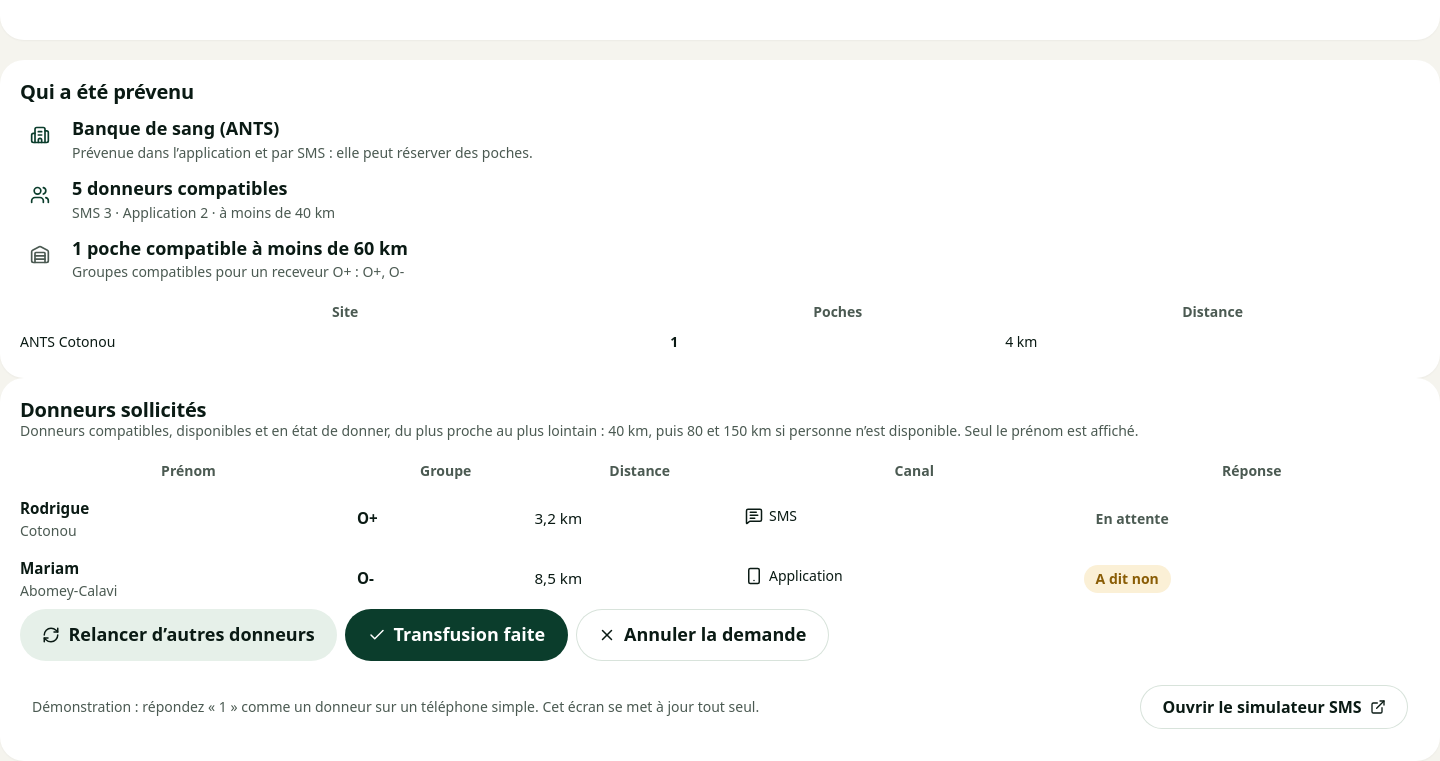
Test: annulation › demande confirmation, prévient l’API, puis affiche la demande clôturée
(page scrolled)
Click the button "Annuler la demande" at x=702, y=634, box [576,608,829,660]
(page scrolled)
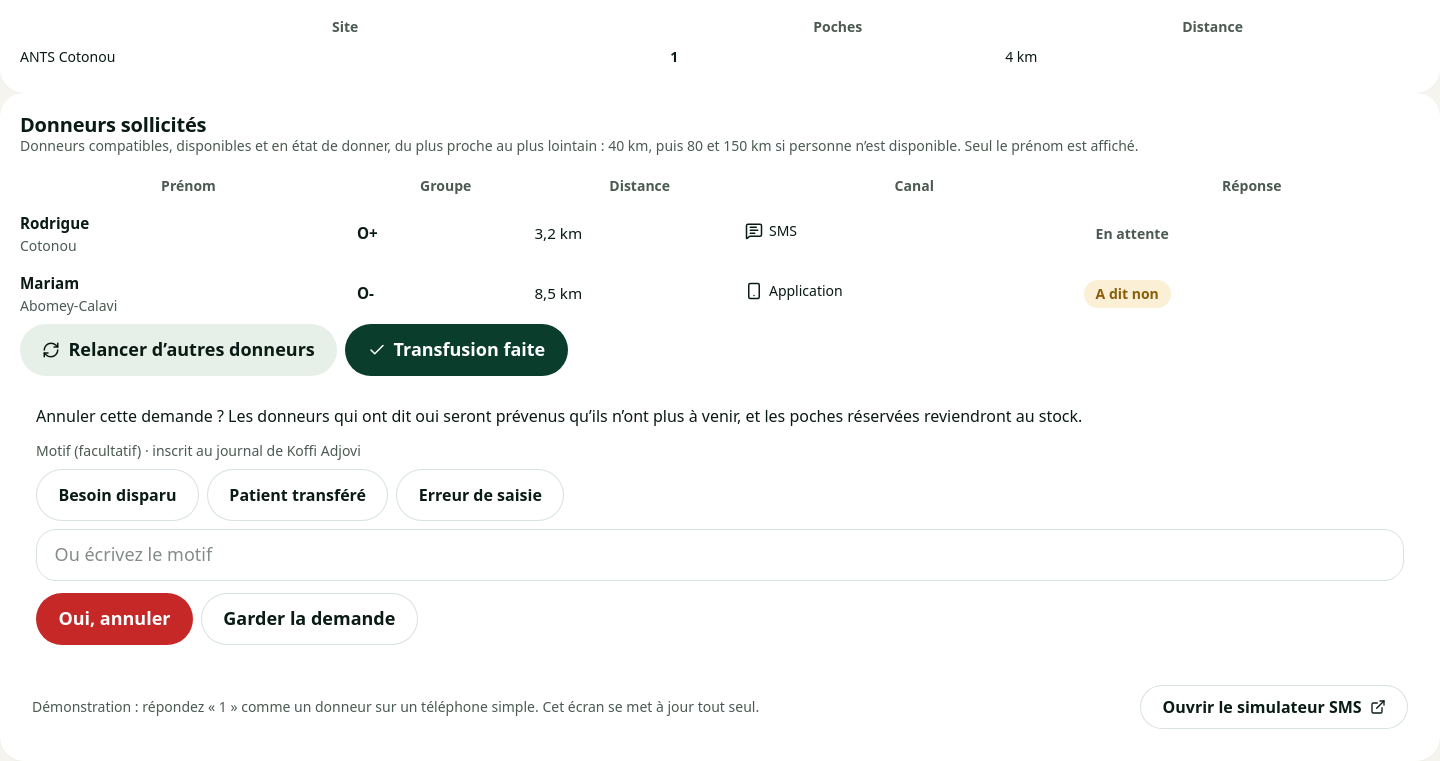
Expected: the text "Les donneurs qui ont dit oui seront prévenus" is shown, [36,404,1082,426]
Click the button "Oui, annuler" at x=114, y=619, box [36,593,193,645]
(page scrolled)
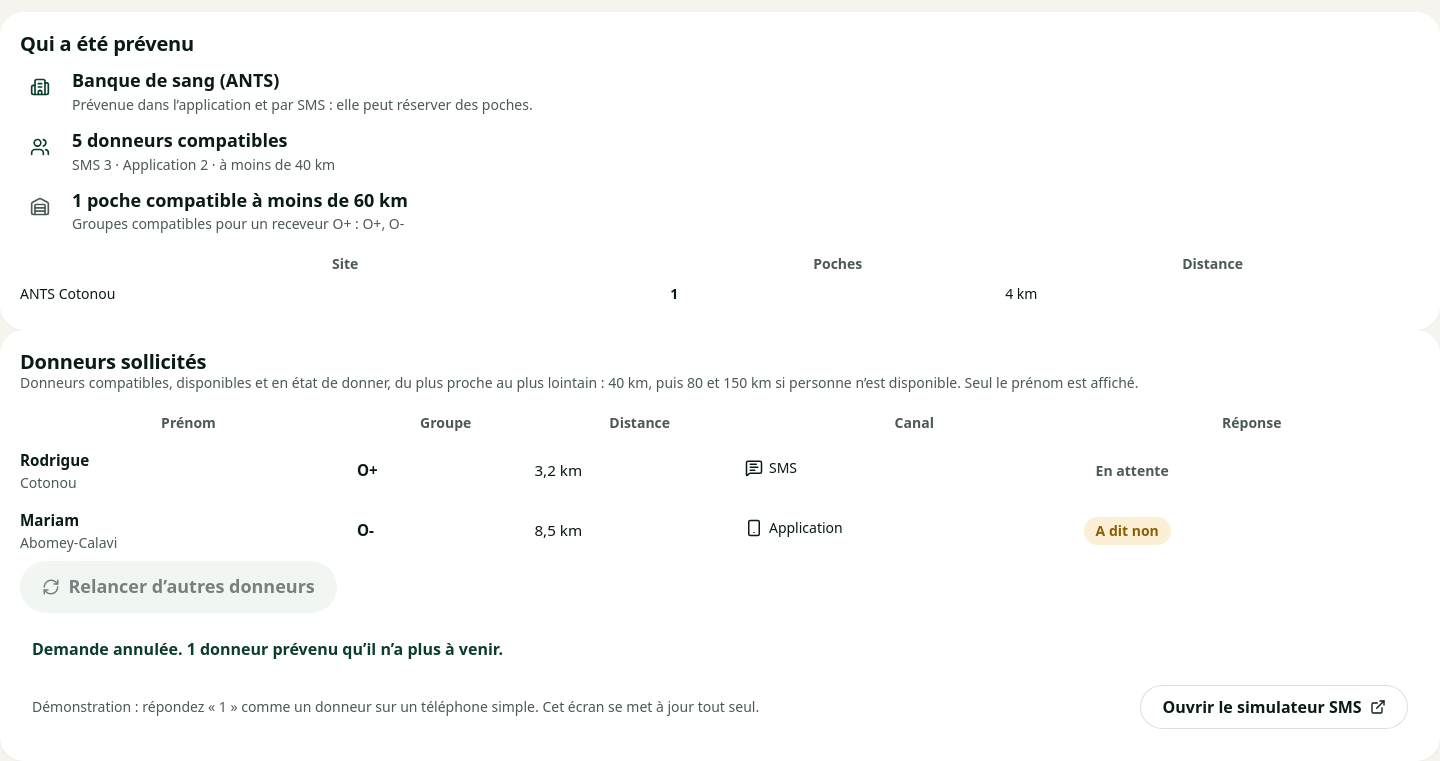
Expected: the button "Annuler la demande" is not shown
Expected: the text "Demande annulée. 1 donneur prévenu qu’il n’a plus à venir." is shown, [32,638,503,660]
Expected: the button "Relancer d’autres donneurs" is disabled, [20,560,337,612]
